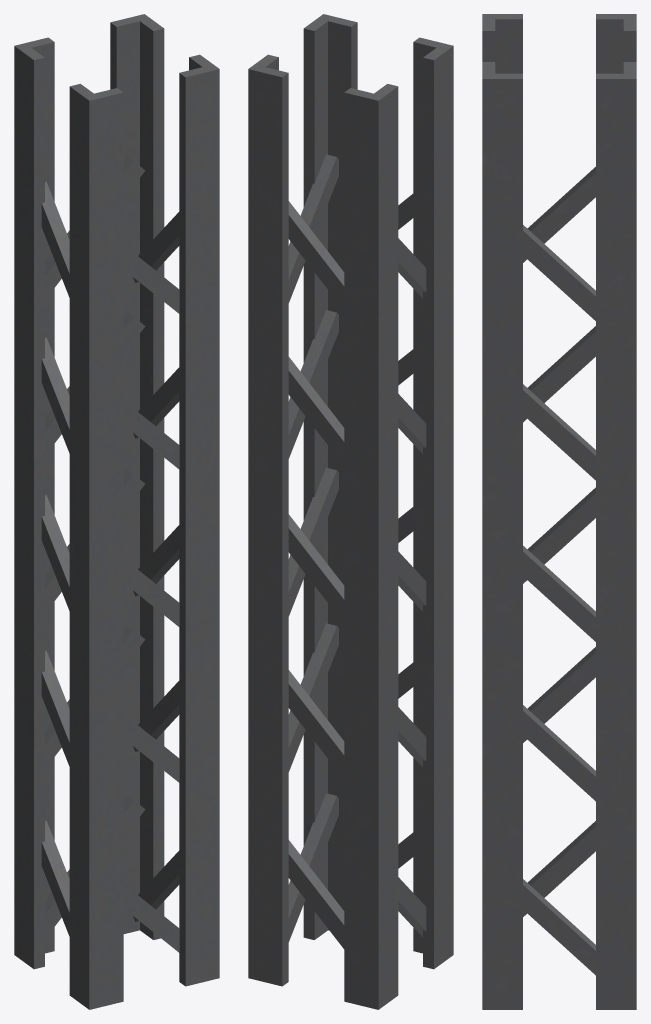
File: SM_steel_pillar_50_x_400.fbx
3 views of the same model, side by side, from view 1: azimuth 30°, elevation 25°; view 2: azimuth 150°, elevation 25°; view 3: azimuth 270°, elevation 25° (orthographic). The views are drawn at different scales.
Visible parts, largest first — view 1: pillar_steel_a; view 2: pillar_steel_a; view 3: pillar_steel_a.
Part boxes in pixels (x1,y1,x2,y2): pillar_steel_a: [14, 14, 219, 1009]; pillar_steel_a: [248, 14, 453, 1009]; pillar_steel_a: [482, 14, 636, 1009].
Size of the model in its own units: 0.6 by 4 by 0.6.
